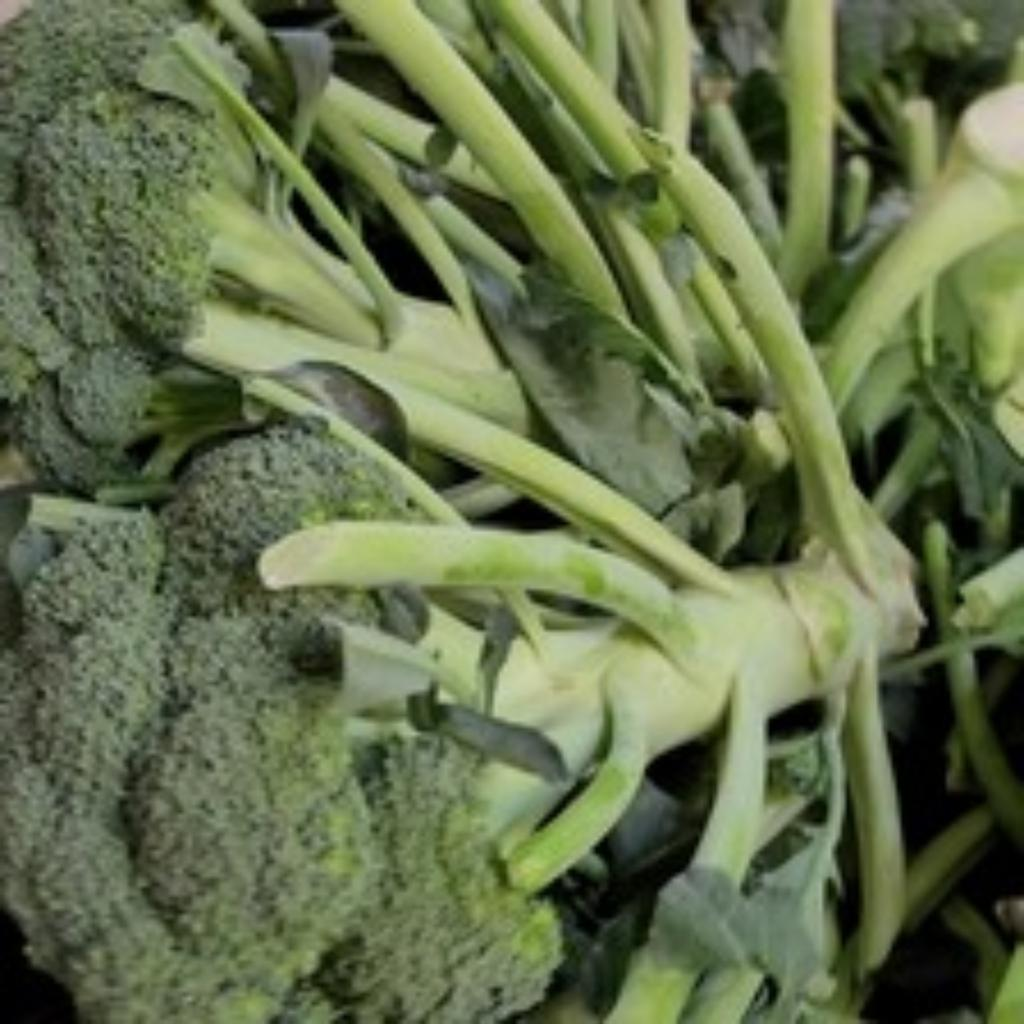Broccoli: (0, 426, 558, 1023), (0, 426, 558, 1023)
